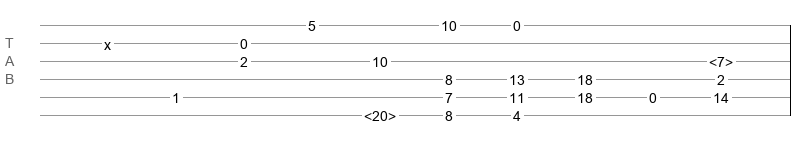0: (240, 36, 248, 46), (513, 18, 521, 28), (649, 90, 657, 100)
1: (172, 90, 180, 100)
10: (372, 54, 388, 64), (441, 18, 457, 28)
11: (509, 90, 525, 100)
13: (509, 72, 525, 82)
14: (713, 90, 729, 100)
18: (577, 90, 593, 100), (577, 72, 593, 82)
2: (240, 54, 248, 64), (717, 72, 725, 82)
4: (513, 108, 521, 118)
5: (308, 18, 316, 28)
7: (445, 90, 453, 100)
8: (445, 72, 453, 82), (445, 108, 453, 118)
harmonic: (364, 108, 396, 118), (709, 54, 733, 64)
x: (104, 37, 111, 45)
